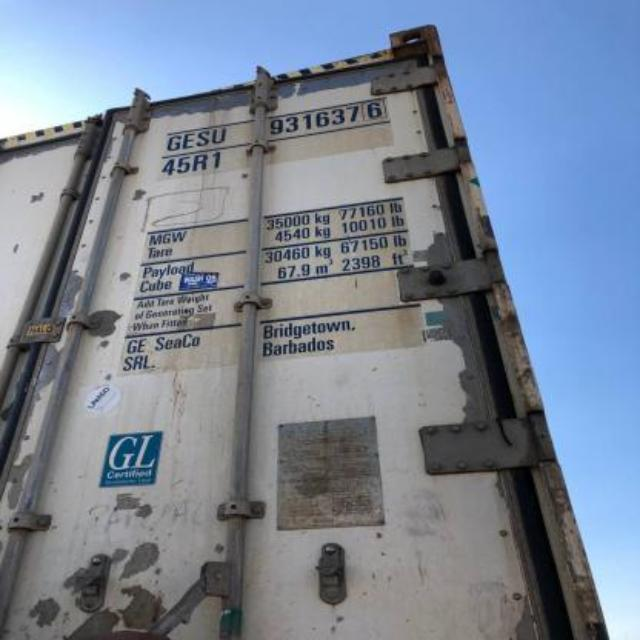1: (298, 110, 312, 130)
3: (281, 112, 299, 134), (330, 102, 344, 128)
6: (362, 96, 382, 122), (314, 106, 330, 130)
7: (346, 102, 360, 128)
9: (270, 114, 282, 138)
E: (182, 130, 194, 148)
G: (167, 130, 183, 154)
S: (199, 128, 211, 148)
U: (212, 126, 230, 144)
